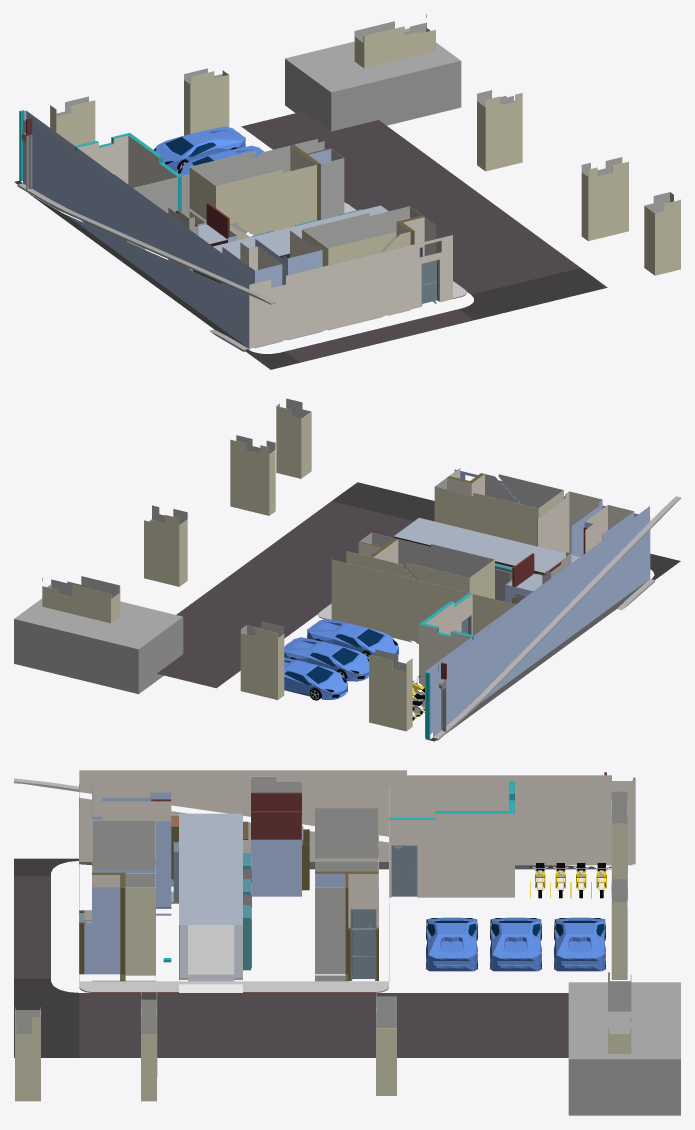
3 renders of one model, top to bottom at view 1: azimuth 30°, elevation 25°; view 2: azimuth 150°, elevation 25°; view 3: azimuth 270°, elevation 25°, orthographic. The views are drawn at different scales.
Visible parts, largest first — view 1: 01.SON TUONG TRONG NHA (×11), 01.LYTHIC DENSIFIER(LD), 01.VỮA XI MĂNG M75 DÀY 15 (×2), 01.SƠN NƯỚC NỘI THẤT (×3), Solid, 01.MAI COT- VACH BE TONG DOC LAP (×4), 01.LYTHIC DENSIFIER(LDR), Paint_Verda_Pan (×2), 01.LỚP EPOXY PHUN CÁT TẠO NHÁM, 01.SON TRAN THACH CAO TRONG NHA, Phase - Exist, Composite Part (+1 smaller); view 2: 01.SON TUONG TRONG NHA (×13), 01.LYTHIC DENSIFIER(LD), 01.VỮA XI MĂNG M75 DÀY 15 (×2), Solid, Paint_Verda_Pan (×3), 01.SƠN NƯỚC NỘI THẤT (×4), 01.MAI COT- VACH BE TONG DOC LAP (×3), 01.SON TRAN THACH CAO TRONG NHA, 01.LYTHIC DENSIFIER(LDR), 01.LỚP EPOXY PHUN CÁT TẠO NHÁM, Phase - Exist; view 3: 01.SƠN NƯỚC NỘI THẤT (×7), 01.LYTHIC DENSIFIER(LD), Solid (×2), 01.MAI COT- VACH BE TONG DOC LAP (×8), 01.SON TUONG TRONG NHA (×6), Paint_Verda_Pan (×3), 01.VỮA XI MĂNG M75 DÀY 15 (×3), 01.SON TRAN THACH CAO TRONG NHA, 01.LAT GACH(TL1) (×2), 01.LYTHIC DENSIFIER(LDR), Composite Part (×2), 01.TUONG GACH_KHONG NUNG(100) (×2) (+3 smaller).
Part boxes in pixels (x1,y1,x2,y2): 01.SON TUONG TRONG NHA (×11): (56,26,680,275); 01.LYTHIC DENSIFIER(LD): (241,111,607,362); 01.VỮA XI MĂNG M75 DÀY 15 (×2): (23,116,322,348); 01.SƠN NƯỚC NỘI THẤT (×3): (77,135,452,348); Solid: (285,28,461,131); 01.MAI COT- VACH BE TONG DOC LAP (×4): (127,139,409,252); 01.LYTHIC DENSIFIER(LDR): (14,180,604,369); Paint_Verda_Pan (×2): (153,126,264,175); 01.LỚP EPOXY PHUN CÁT TẠO NHÁM: (17,183,275,351); 01.SON TRAN THACH CAO TRONG NHA: (213,205,388,259); Phase - Exist: (28,193,249,349); Composite Part: (421,259,439,305); 01.SON TUONG TRONG NHA (×13): (42,406,538,731); 01.LYTHIC DENSIFIER(LD): (157,482,652,688); 01.VỮA XI MĂNG M75 DÀY 15 (×2): (433,500,649,737); Solid: (14,598,183,693); Paint_Verda_Pan (×3): (284,618,398,699); 01.SƠN NƯỚC NỘI THẤT (×4): (419,491,601,687); 01.MAI COT- VACH BE TONG DOC LAP (×3): (51,474,563,598); 01.SON TRAN THACH CAO TRONG NHA: (394,517,579,573); 01.LYTHIC DENSIFIER(LDR): (332,483,680,741); 01.LỚP EPOXY PHUN CÁT TẠO NHÁM: (433,496,680,740); Phase - Exist: (446,580,648,733); 01.SƠN NƯỚC NỘI THẤT (×7): (79,770,632,927); 01.LYTHIC DENSIFIER(LD): (14,876,568,1057); Solid (×2): (179,982,680,1115); 01.MAI COT- VACH BE TONG DOC LAP (×8): (92,776,631,1076); 01.SON TUONG TRONG NHA (×6): (15,814,627,1101); Paint_Verda_Pan (×3): (426,917,605,971); 01.VỮA XI MĂNG M75 DÀY 15 (×3): (84,816,301,974); 01.SON TRAN THACH CAO TRONG NHA: (179,813,242,924); 01.LAT GACH(TL1) (×2): (79,925,388,991); 01.LYTHIC DENSIFIER(LDR): (14,858,79,1057); Composite Part (×2): (350,845,417,980); 01.TUONG GACH_KHONG NUNG(100) (×2): (251,792,301,839).
Size of the model in its own units: 75.1 by 85.44 by 14.27.
